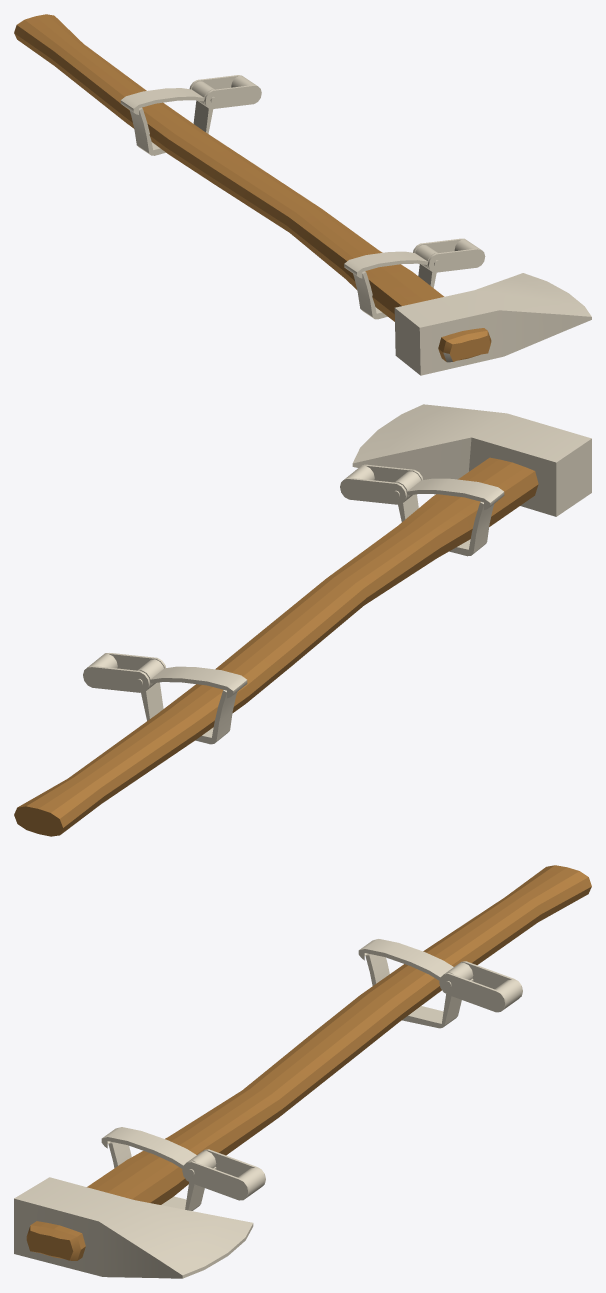
File: AxeAttachmentSKDFZ.fbx
The picture shows the model from 3 angles, top to bottom: view 1: azimuth 30°, elevation 25°; view 2: azimuth 150°, elevation 25°; view 3: azimuth 330°, elevation 25°; orthographic projection. The views are drawn at different scales.
Parts seen in each view (by area): view 1: polySurface387117.001; view 2: polySurface387117.001; view 3: polySurface387117.001.
Boxes of the visible parts, bbox=[...] form: polySurface387117.001: bbox=[14, 14, 591, 375]; polySurface387117.001: bbox=[14, 404, 591, 836]; polySurface387117.001: bbox=[14, 865, 591, 1278].
Size of the model in its own units: 2.53 by 0.5496 by 0.1741.
